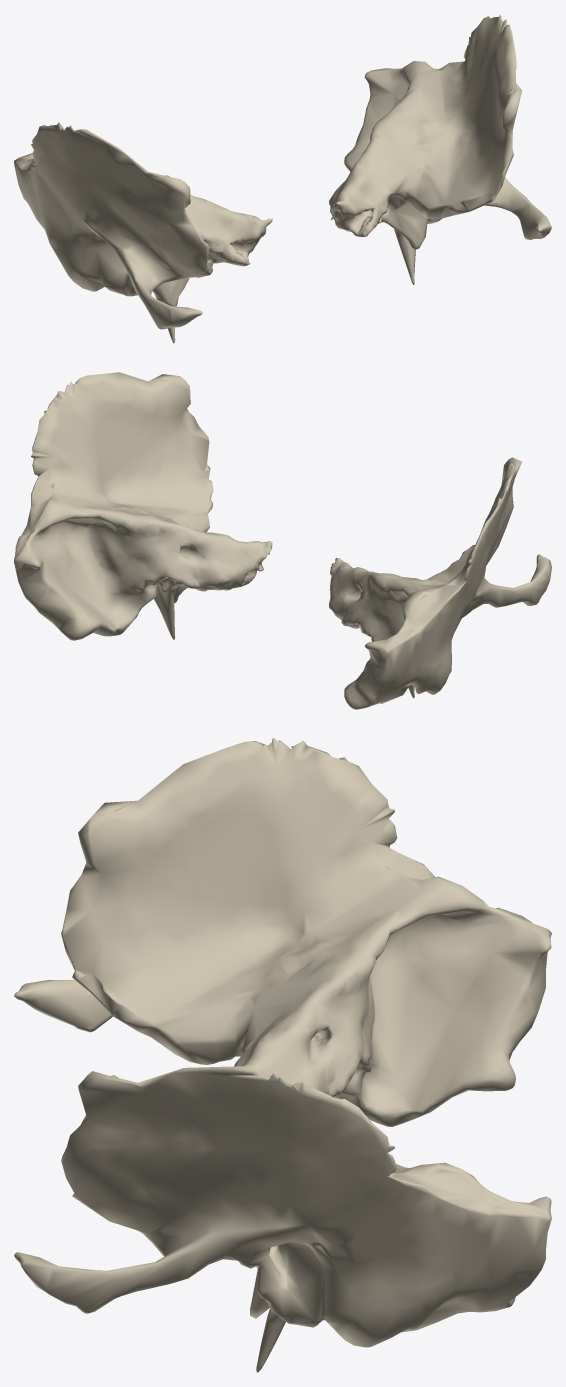
Rendered from ear-candidate.glb.
3 renders of one model, top to bottom at view 1: azimuth 30°, elevation 25°; view 2: azimuth 150°, elevation 25°; view 3: azimuth 270°, elevation 25°, orthographic. The views are drawn at different scales.
Parts seen in each view (by area): view 1: bone_temporal_L, bone_temporal_R; view 2: bone_temporal_L, bone_temporal_R; view 3: bone_temporal_R, bone_temporal_L.
Boxes of the visible parts, x1,y1,x2,y2 form: bone_temporal_L: (329, 14, 551, 284); bone_temporal_R: (14, 122, 272, 343); bone_temporal_L: (14, 372, 272, 640); bone_temporal_R: (329, 457, 551, 709); bone_temporal_R: (14, 738, 551, 1126); bone_temporal_L: (14, 1066, 551, 1372).
Size of the model in its own units: 0.1448 by 0.0744 by 0.0963.
